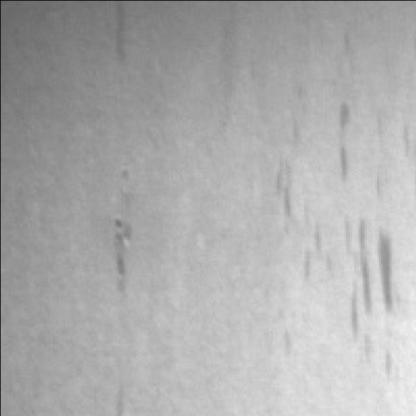inclusion: (341, 208, 406, 343), (102, 200, 141, 312), (326, 88, 362, 194), (108, 0, 140, 69)
